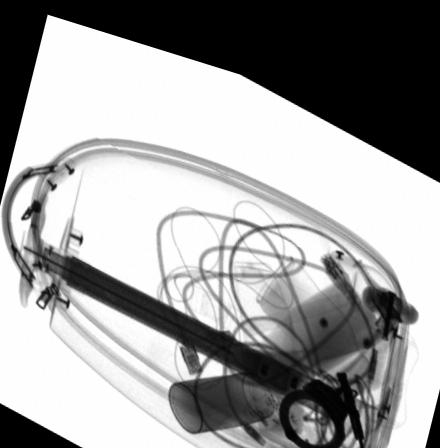HandCuffs: (277, 350, 367, 448)
